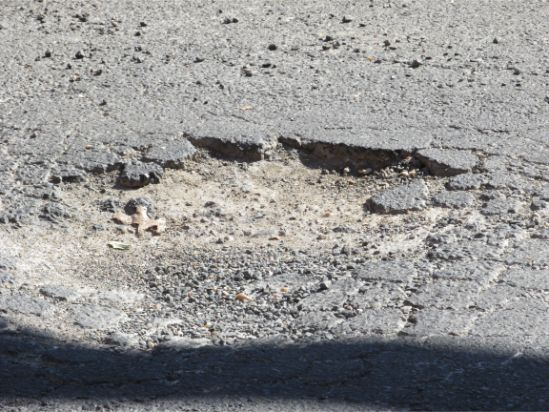pothole: (38, 126, 467, 256)
